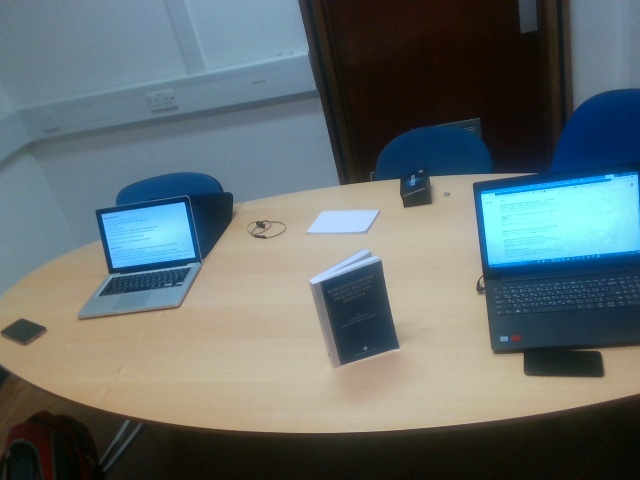book: (310, 246, 400, 367)
